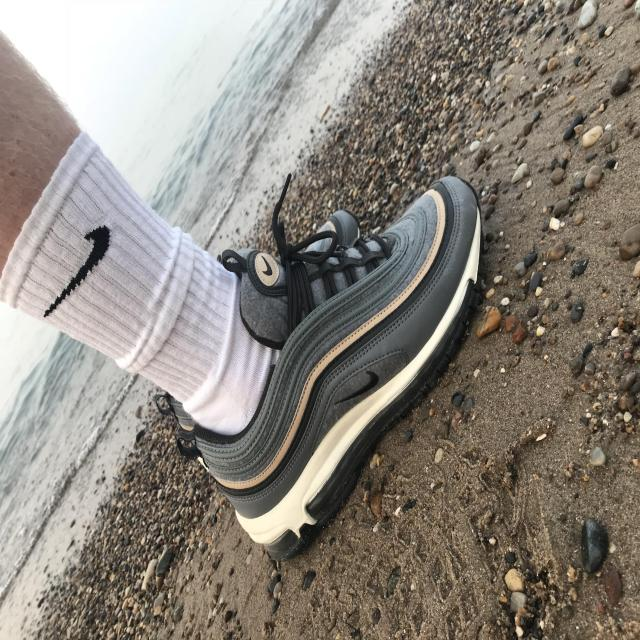shoes: (167, 146, 487, 563)
